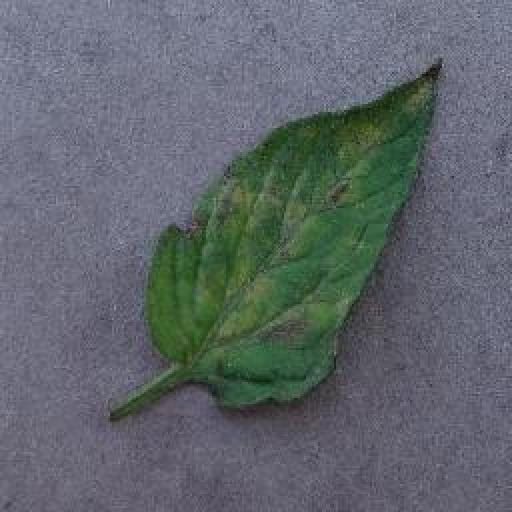Leaf Mold: (150, 55, 440, 408)
